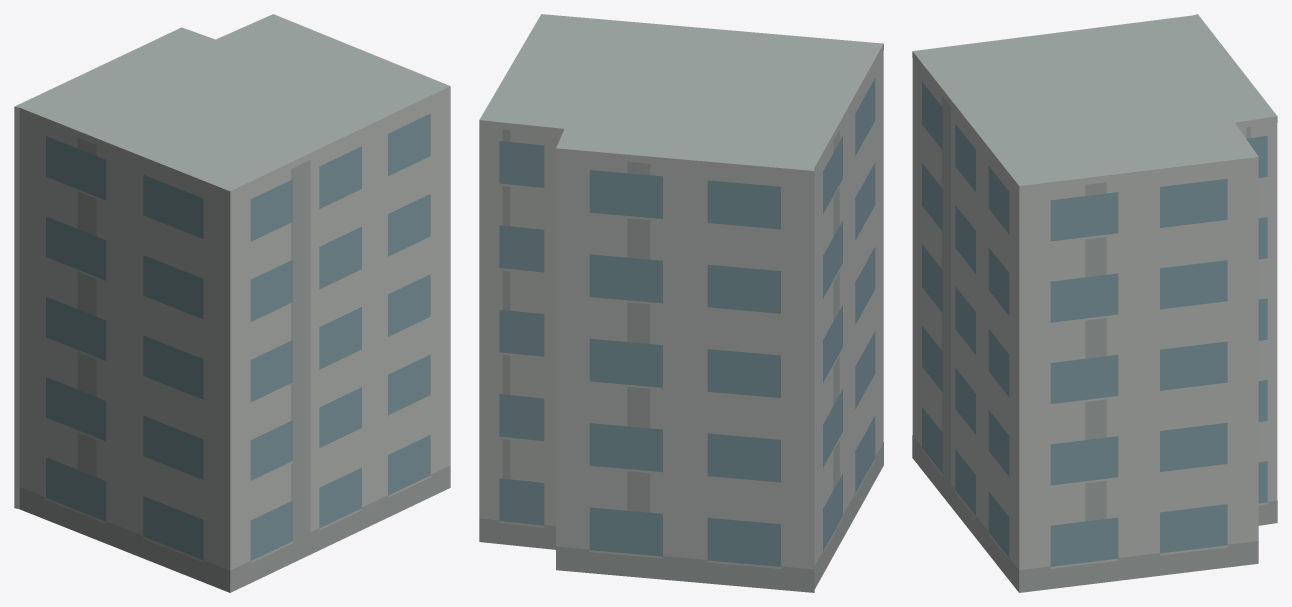
File: survey-upis-32973429.glb
3 renders of one model, left to right at view 1: azimuth 30°, elevation 25°; view 2: azimuth 150°, elevation 25°; view 3: azimuth 270°, elevation 25°, orthographic. The views are drawn at different scales.
Parts seen in each view (by area): view 1: survey-upis-32973429.tmp; view 2: survey-upis-32973429.tmp; view 3: survey-upis-32973429.tmp.
Part boxes in pixels (left/top/right/bottom): survey-upis-32973429.tmp: left=14, top=14, right=450, bottom=592; survey-upis-32973429.tmp: left=479, top=14, right=883, bottom=592; survey-upis-32973429.tmp: left=912, top=14, right=1277, bottom=592.
Size of the model in its own units: 13.17 by 14.5 by 11.8.
